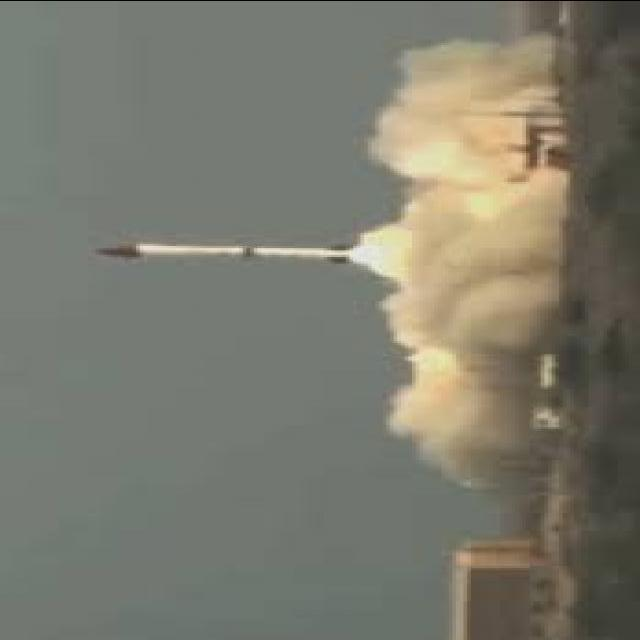missile: (88, 241, 359, 269)
